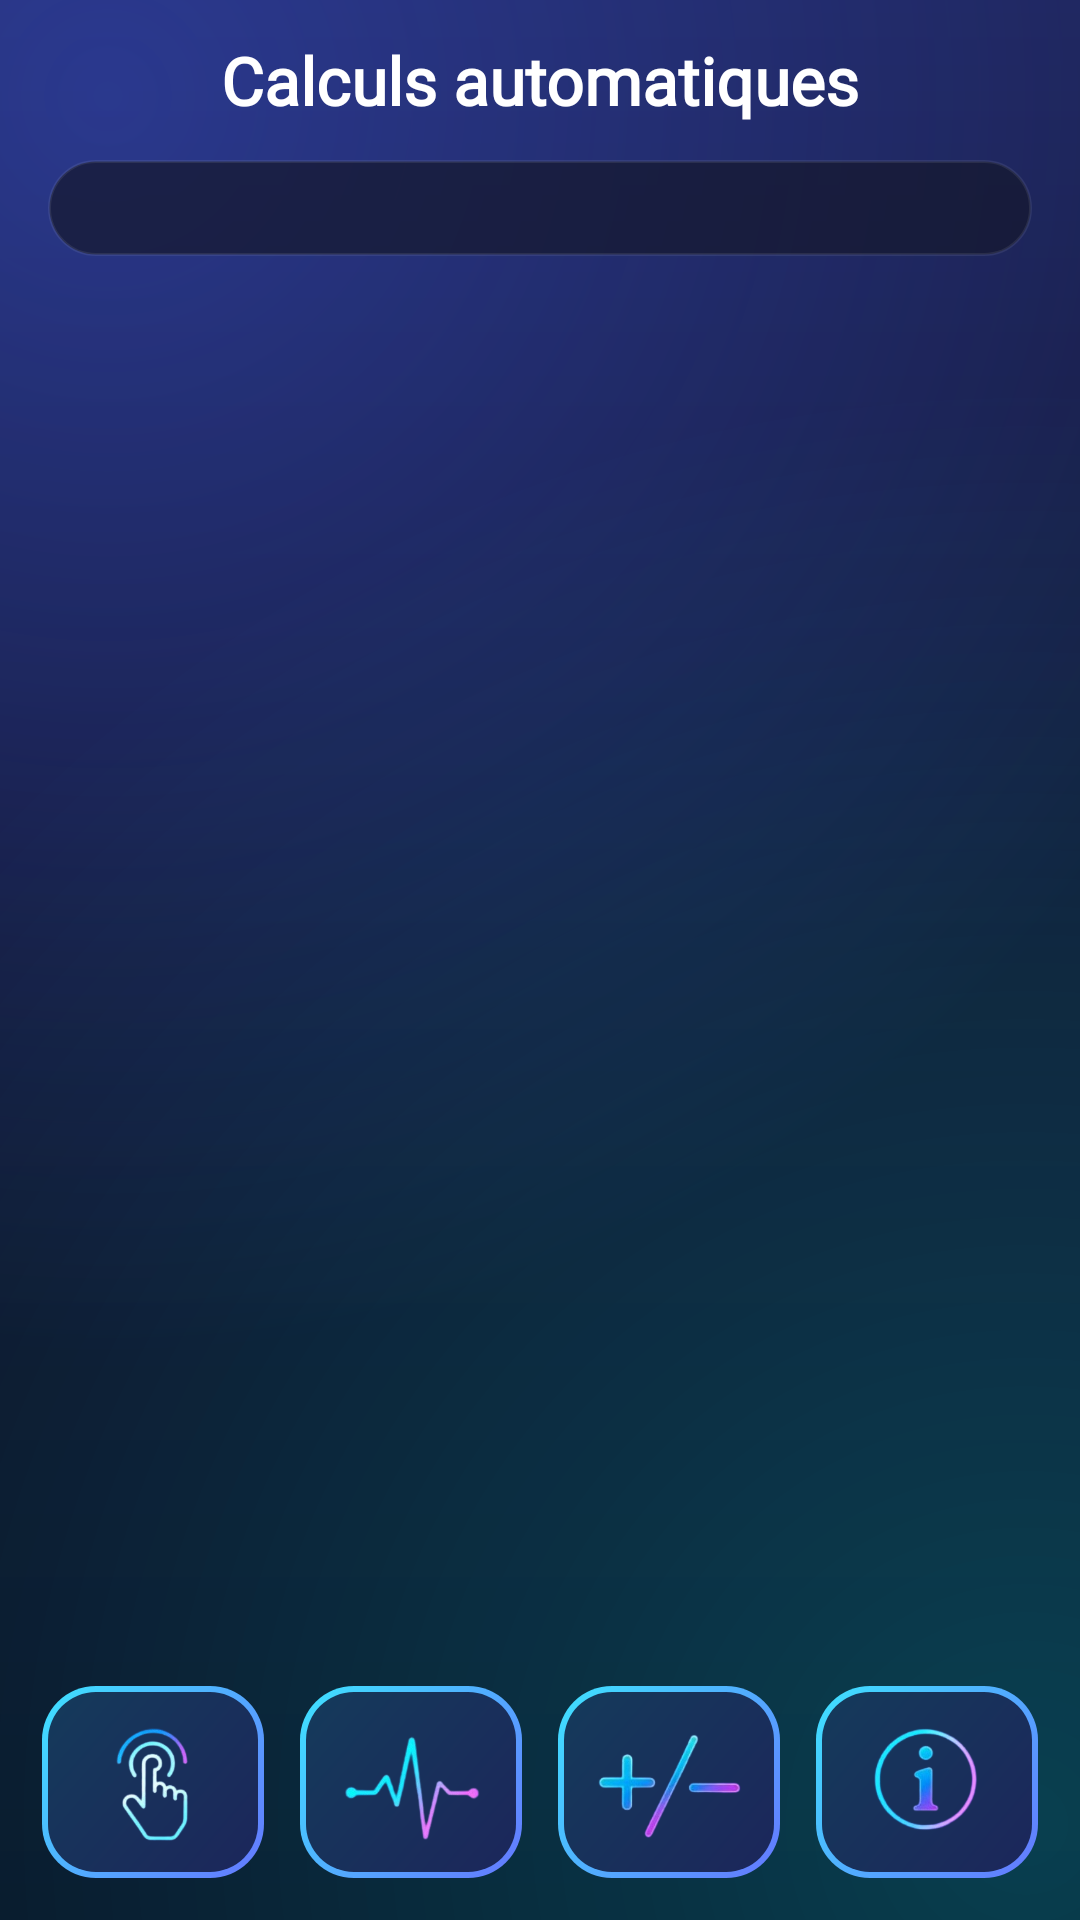

Named icons in this screenshot (1080w x 1920h) and their bounding boxes, [x1,y1,x2,y2]:
Calculs: [558,1686,780,1878]
Compteur: [42,1686,264,1878]
Info: [816,1686,1038,1878]
